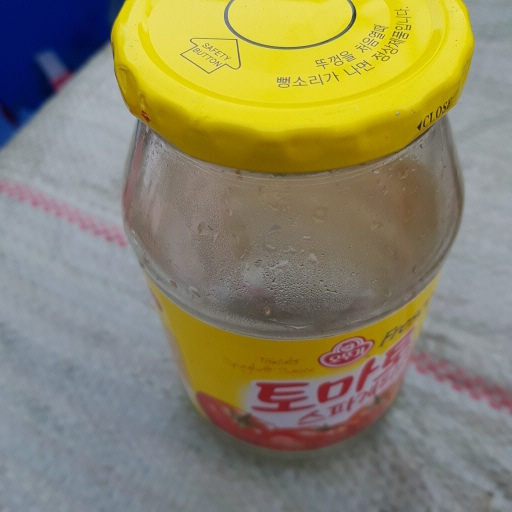Glass_5: (105, 1, 469, 450)
